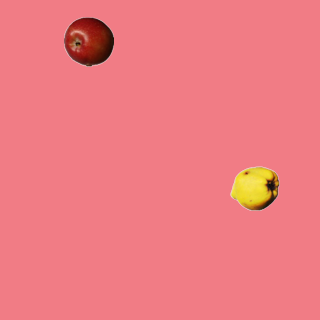Apple Braeburn: (63, 16, 113, 66)
Quince: (229, 163, 279, 213)
